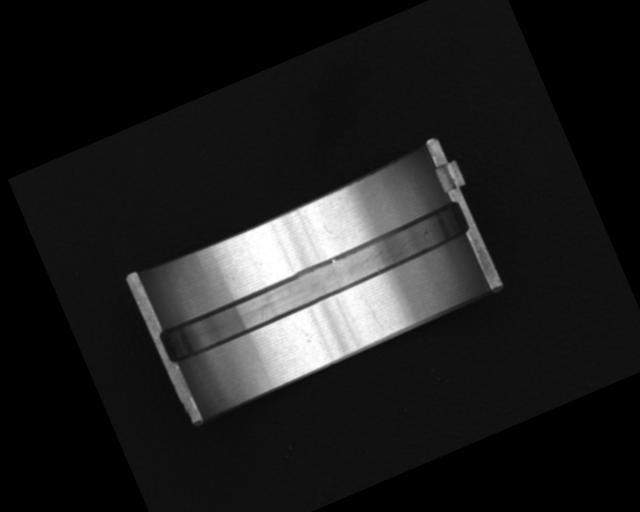gap: (154, 200, 472, 367)
nick: (363, 298, 383, 331)
